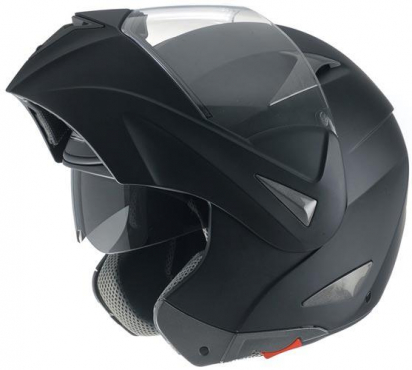with_helmet: (3, 1, 411, 370)
